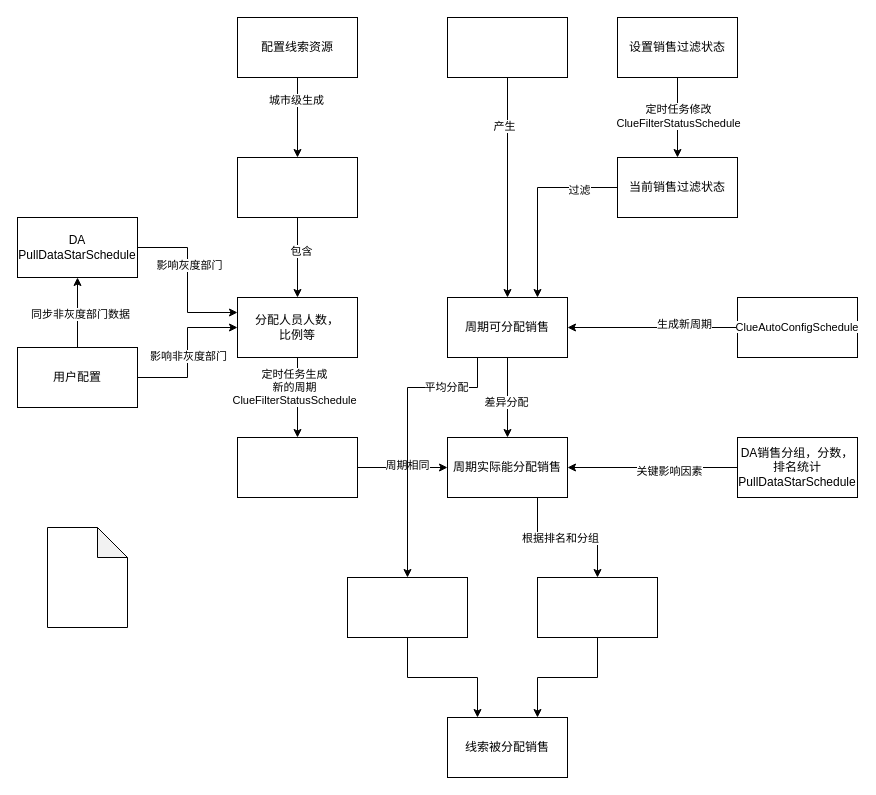
This 876x795 diagram has some shape labels left out. Each missing label, with the centre of its shape:
"DA每天定时任务拉取数据" belongs at [87,577].
"周期参数" belongs at [297,467].
"第三方" belongs at [597,607].
"自动分配配置" belongs at [297,187].
"获取上次最早被分配销售" belongs at [407,607].
"部门销售" belongs at [507,47].
